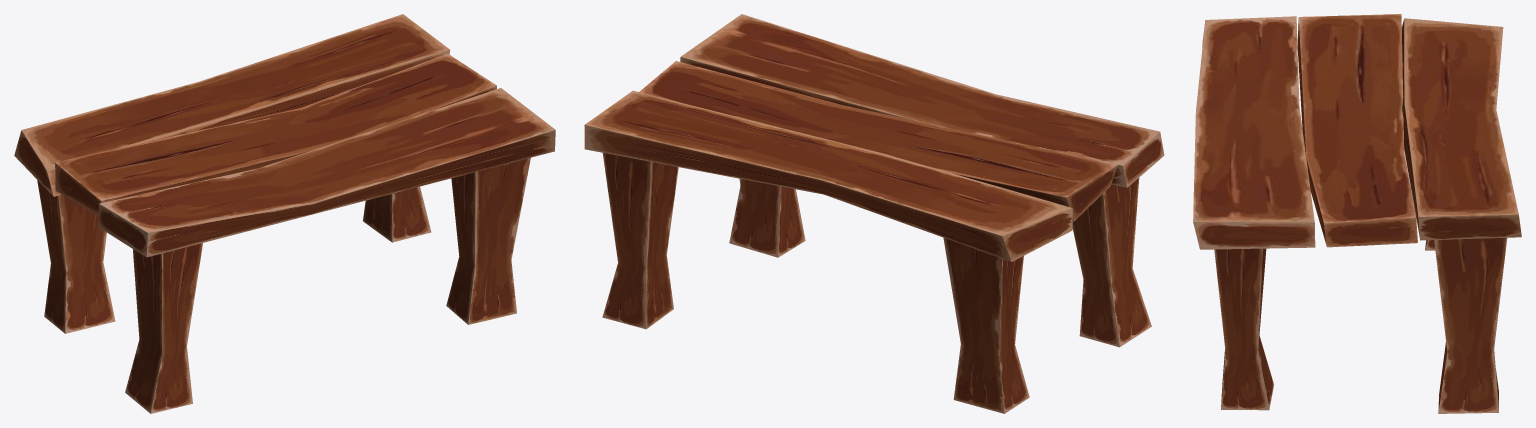
Rendered from SM_PROP_table_01.glb.
3 renders of one model, left to right at view 1: azimuth 30°, elevation 25°; view 2: azimuth 150°, elevation 25°; view 3: azimuth 270°, elevation 25°, orthographic. The views are drawn at different scales.
Visible parts, largest first — view 1: SM_PROP_table_01_EXPORT; view 2: SM_PROP_table_01_EXPORT; view 3: SM_PROP_table_01_EXPORT.
Boxes of the visible parts, box(x1,y1,x2,y2) form: SM_PROP_table_01_EXPORT: box(14, 14, 555, 413); SM_PROP_table_01_EXPORT: box(584, 14, 1164, 413); SM_PROP_table_01_EXPORT: box(1193, 14, 1521, 413).
Size of the model in its own units: 1.79 by 0.8249 by 1.14.
1 material, 1 textured.
